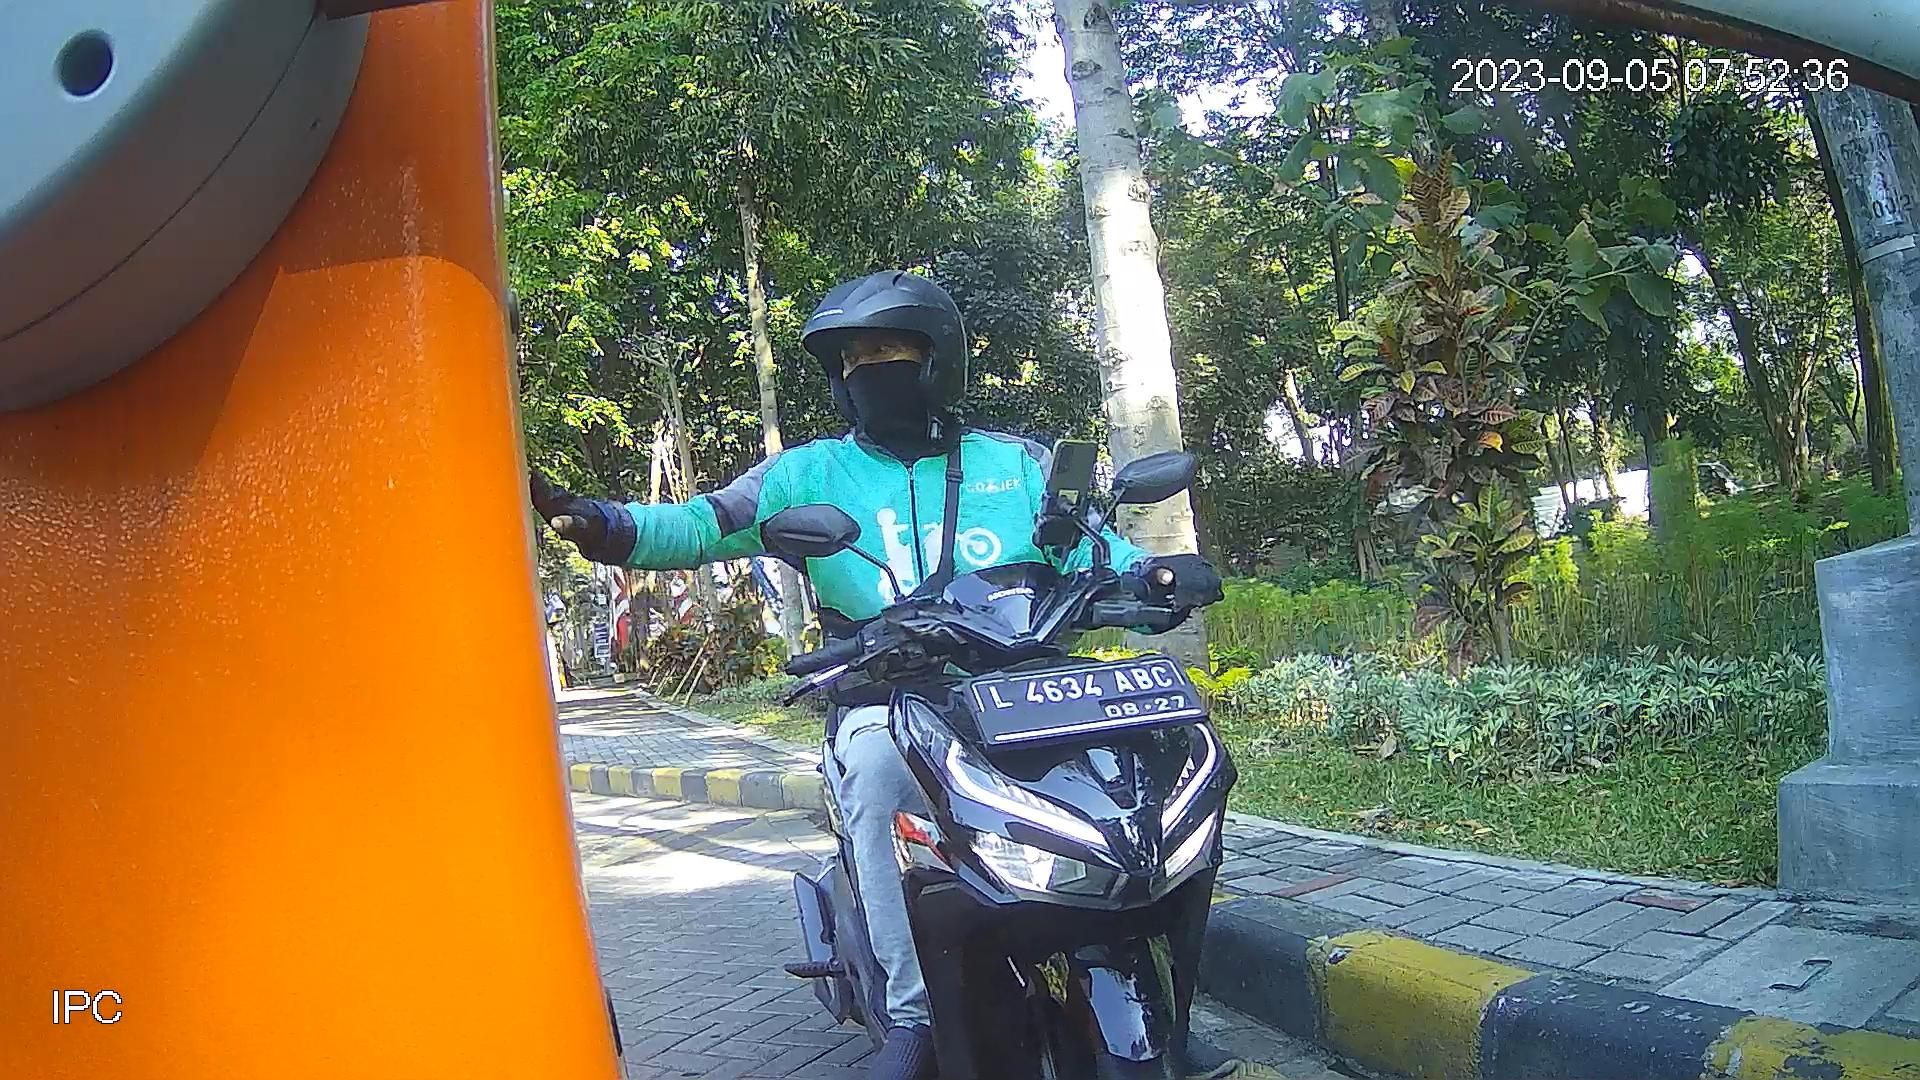plat: (959, 651, 1211, 753)
